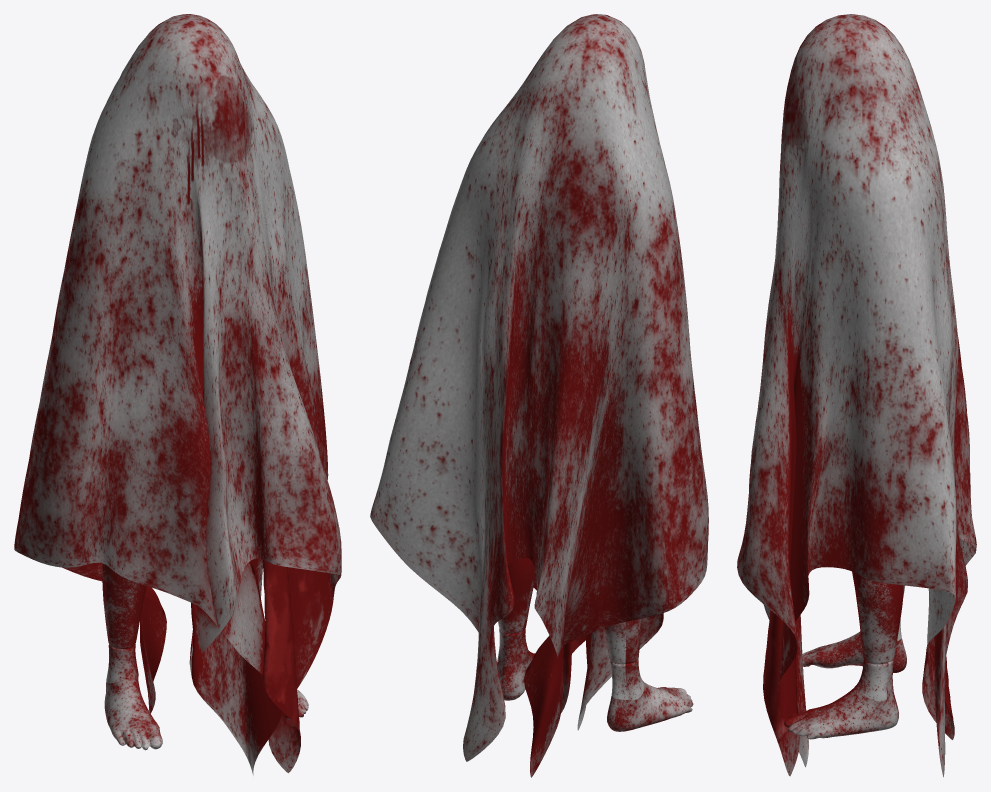
The picture shows the model from 3 angles, left to right: view 1: azimuth 30°, elevation 25°; view 2: azimuth 150°, elevation 25°; view 3: azimuth 270°, elevation 25°; orthographic projection. The views are drawn at different scales.
Parts seen in each view (by area): view 1: Plane, Ch36; view 2: Plane, Ch36; view 3: Plane, Ch36.
Part boxes in pixels (left/top/right/bottom): Plane: left=14, top=14, right=341, bottom=775; Ch36: left=102, top=558, right=308, bottom=750; Plane: left=370, top=14, right=708, bottom=777; Ch36: left=497, top=558, right=693, bottom=731; Plane: left=737, top=14, right=976, bottom=777; Ch36: left=784, top=571, right=906, bottom=739.
Size of the model in its own units: 1.16 by 2.7 by 0.8041.
Materials: 2 (2 with a texture image).
